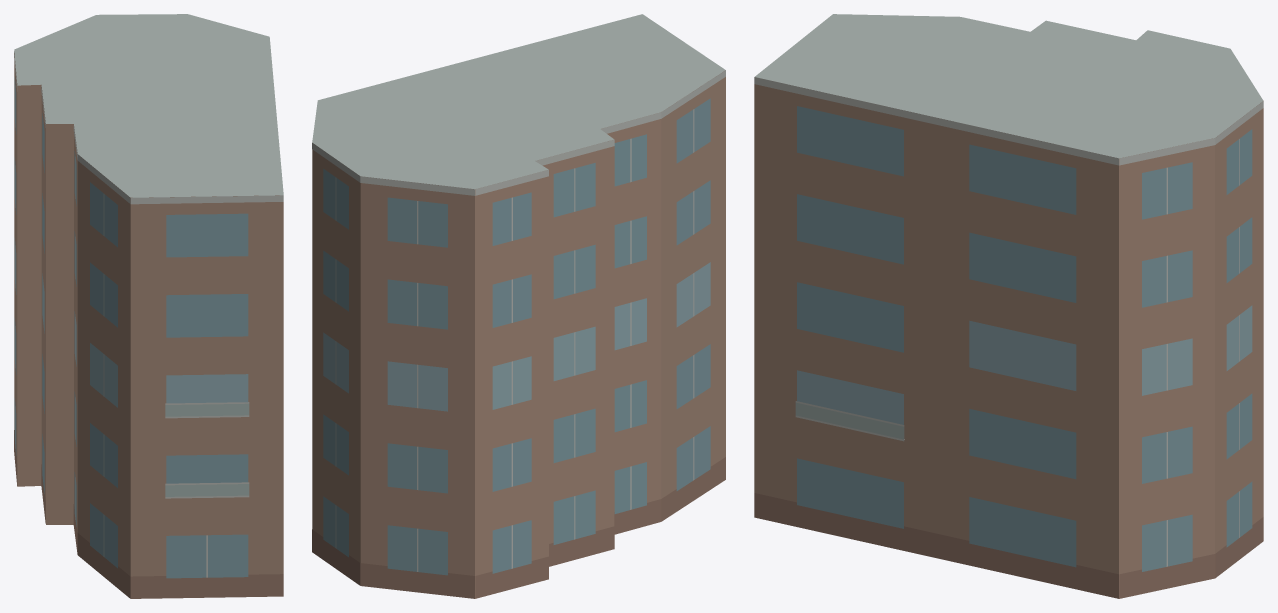
Rendered from survey-upis-32765702.glb.
The picture shows the model from 3 angles, left to right: view 1: azimuth 30°, elevation 25°; view 2: azimuth 150°, elevation 25°; view 3: azimuth 270°, elevation 25°; orthographic projection. The views are drawn at different scales.
Visible parts, largest first — view 1: survey-upis-32765702.tmp; view 2: survey-upis-32765702.tmp; view 3: survey-upis-32765702.tmp.
Part boxes in pixels (x1,y1,x2,y2): survey-upis-32765702.tmp: (14, 14, 283, 598); survey-upis-32765702.tmp: (312, 14, 725, 598); survey-upis-32765702.tmp: (754, 14, 1263, 598).
Size of the model in its own units: 10.52 by 14.95 by 15.67.
